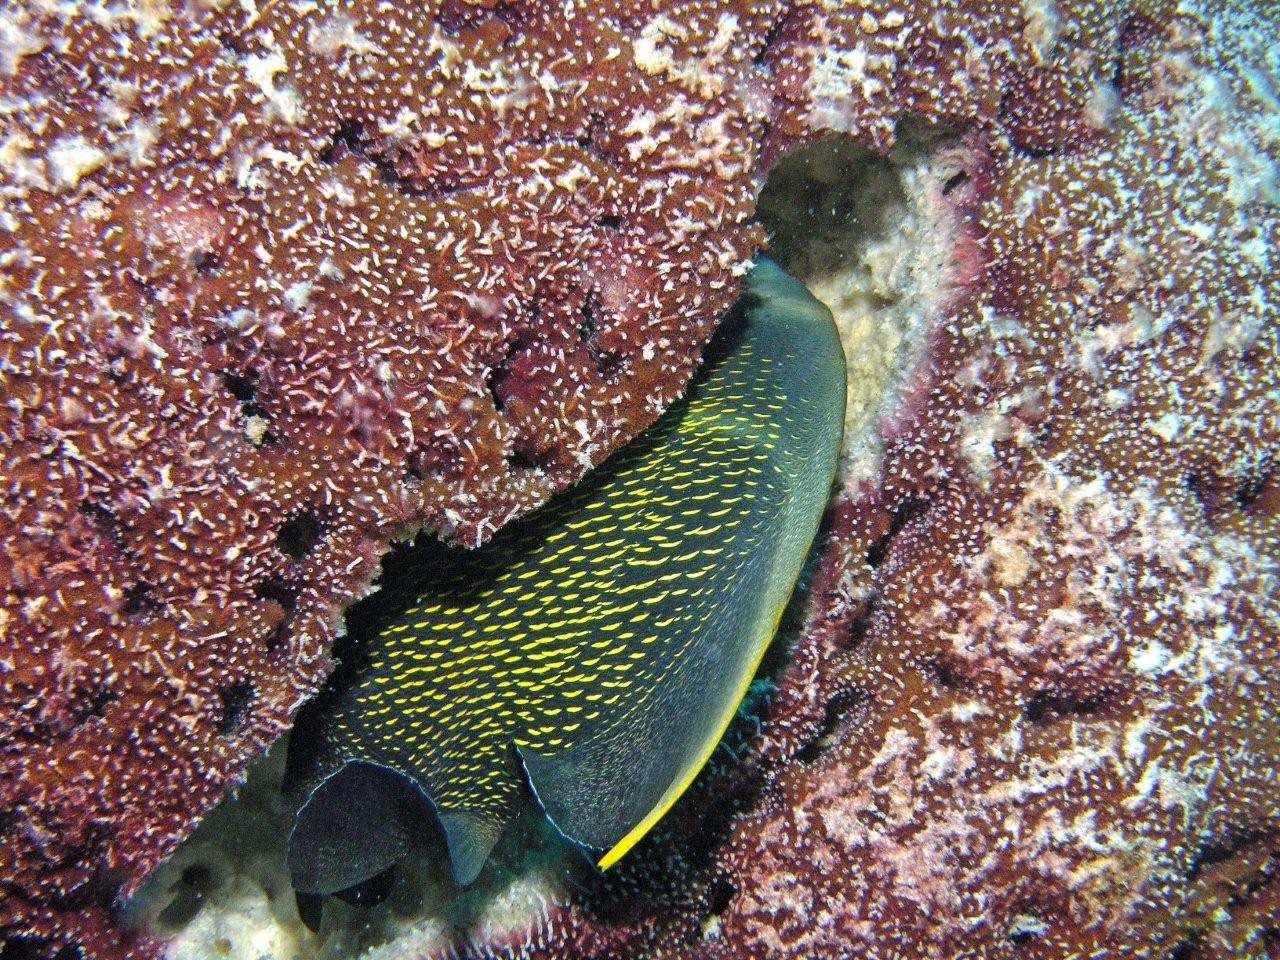Pomacanthus_paru: (221, 257, 872, 959)
